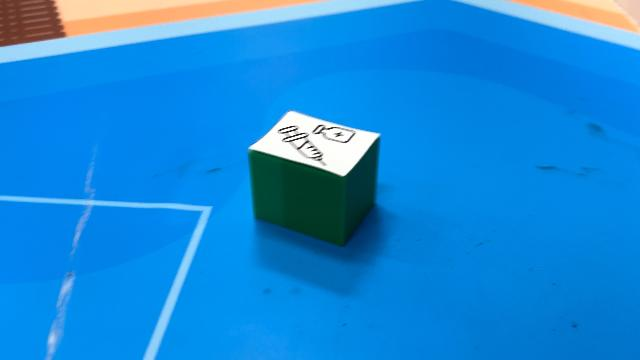syringe: (247, 110, 381, 246)
